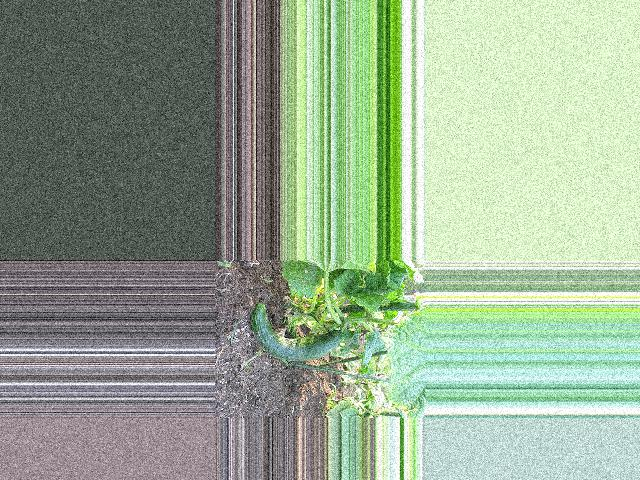cucumber: (250, 302, 343, 361)
